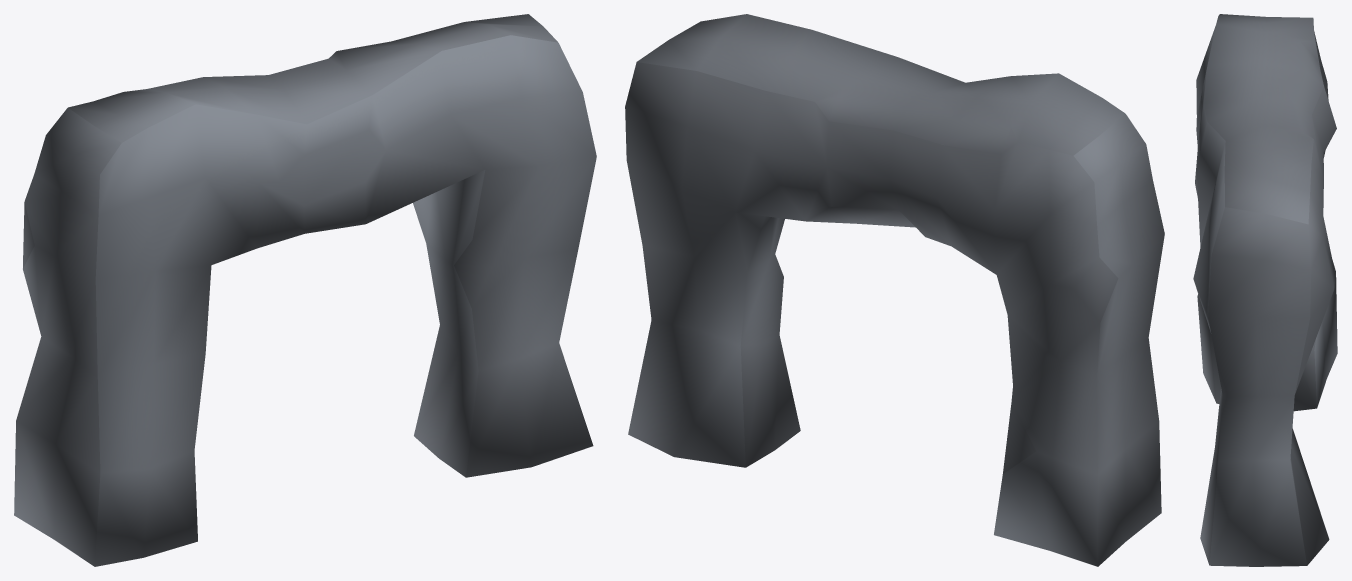
3 views of the same model, side by side, from view 1: azimuth 30°, elevation 25°; view 2: azimuth 150°, elevation 25°; view 3: azimuth 270°, elevation 25° (orthographic). The views are drawn at different scales.
Parts seen in each view (by area): view 1: Cube; view 2: Cube; view 3: Cube.
Part boxes in pixels (left/top/right/bottom): Cube: left=14, top=14, right=596, bottom=566; Cube: left=625, top=14, right=1164, bottom=566; Cube: left=1193, top=14, right=1337, bottom=566.
Size of the model in its own units: 1096 by 903 by 309.
